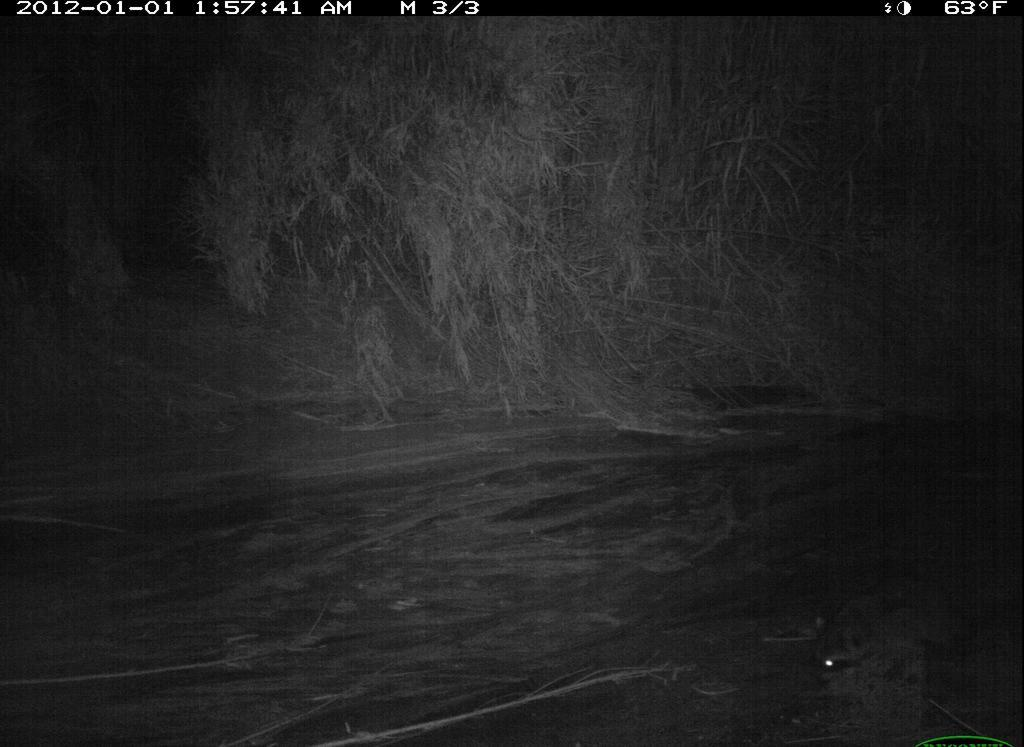raccoon: (808, 573, 985, 693)
